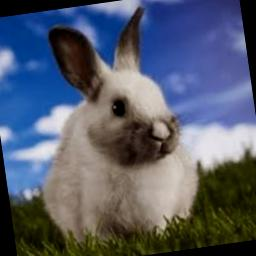rabbit: (43, 7, 198, 242)
